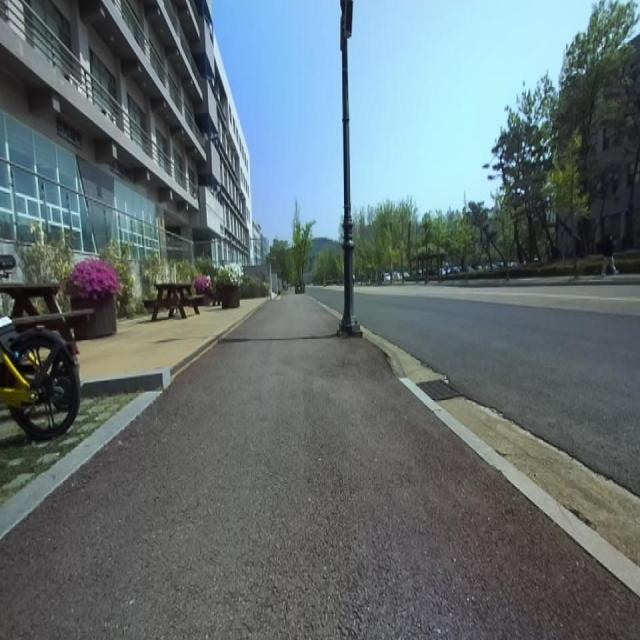sidewalk: (0, 293, 640, 639), (400, 378, 640, 596), (363, 331, 405, 379)
